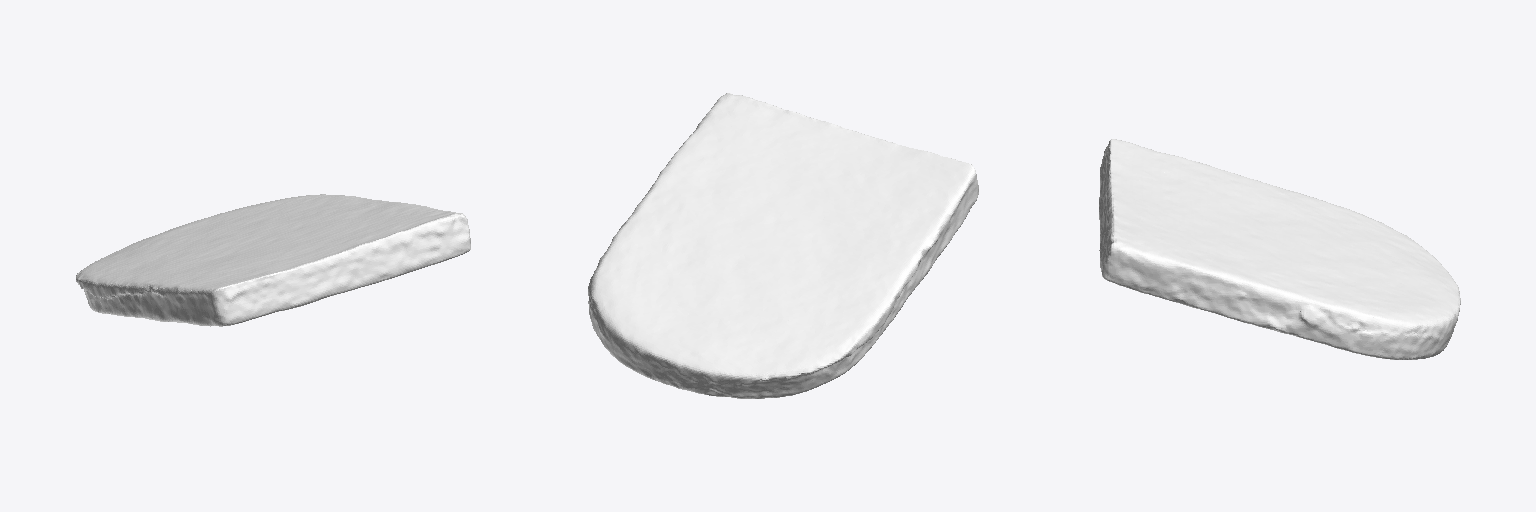
File: stela.obj
3 renders of one model, left to right at view 1: azimuth 30°, elevation 25°; view 2: azimuth 150°, elevation 25°; view 3: azimuth 270°, elevation 25°, orthographic.
Bounding box in the file's own units: 1.36 × 0.6985 × 1.57.